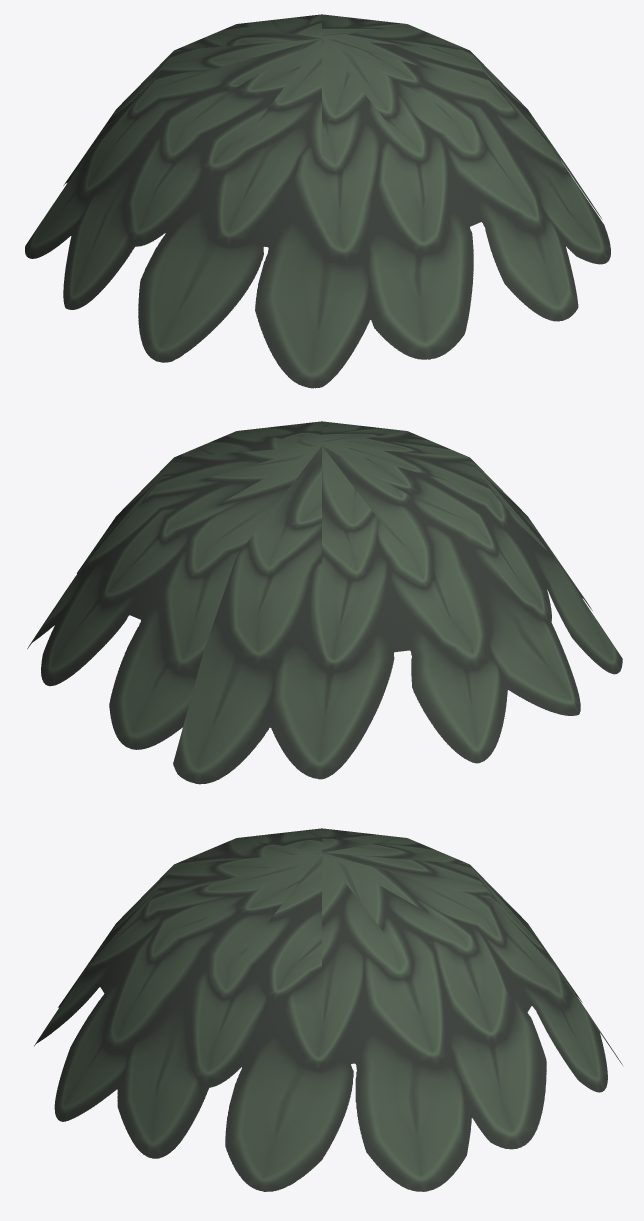
Rendered from bush_02.FBX.
3 views of the same model, one above another, from view 1: azimuth 30°, elevation 25°; view 2: azimuth 150°, elevation 25°; view 3: azimuth 270°, elevation 25° (orthographic).
Visible parts, largest first — view 1: bush_02; view 2: bush_02; view 3: bush_02.
Part boxes in pixels (<box>): bush_02: <box>25,14,610,388</box>; bush_02: <box>27,421,622,784</box>; bush_02: <box>34,828,623,1191</box>.
Size of the model in its own units: 49.25 by 19.74 by 49.25.
1 material, 1 textured.
